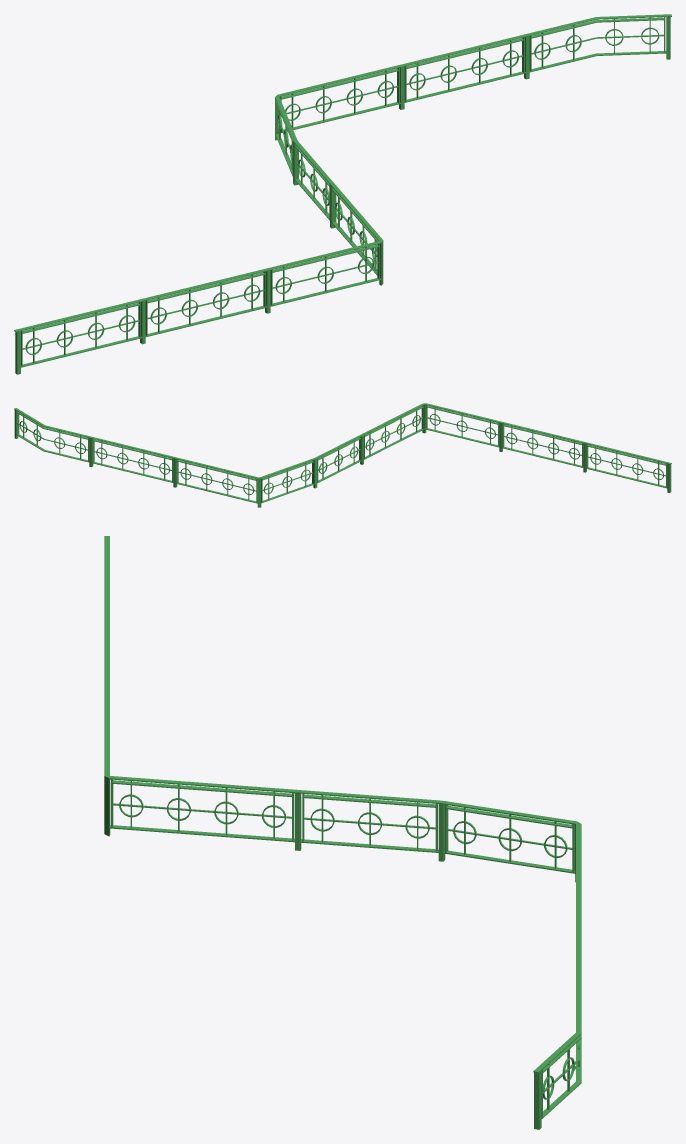
The model's file is Fence_WestStairs.fbx.
3 views of the same model, one above another, from view 1: azimuth 30°, elevation 25°; view 2: azimuth 150°, elevation 25°; view 3: azimuth 270°, elevation 25° (orthographic). The views are drawn at different scales.
Parts seen in each view (by area): view 1: fence_segment_1 (×6), fence_segment_end_2 (×6), fence_segment_end_1 (×5), fence_segment_2 (×5); view 2: fence_segment_end_2 (×9), fence_segment_end_1 (×9), fence_segment_1 (×9), fence_segment_2 (×6); view 3: fence_segment_end_1 (×3), fence_segment_end_2 (×3), fence_segment_1 (×3), fence_segment_2.
Boxes of the visible parts, x1=… form: fence_segment_1 (×6): x1=48, y1=17, x2=596, y2=360; fence_segment_end_2 (×6): x1=111, y1=14, x2=665, y2=345; fence_segment_end_1 (×5): x1=20, y1=26, x2=559, y2=367; fence_segment_2 (×5): x1=79, y1=15, x2=632, y2=352; fence_segment_end_2 (×9): x1=16, y1=403, x2=606, y2=502; fence_segment_end_1 (×9): x1=69, y1=404, x2=667, y2=503; fence_segment_1 (×9): x1=43, y1=408, x2=648, y2=498; fence_segment_2 (×6): x1=29, y1=417, x2=627, y2=493; fence_segment_end_1 (×3): x1=111, y1=776, x2=488, y2=859; fence_segment_end_2 (×3): x1=249, y1=786, x2=575, y2=873; fence_segment_1 (×3): x1=154, y1=779, x2=533, y2=866; fence_segment_2: x1=202, y1=783, x2=250, y2=838.
Size of the model in its own units: 2769 by 141 by 1042.
